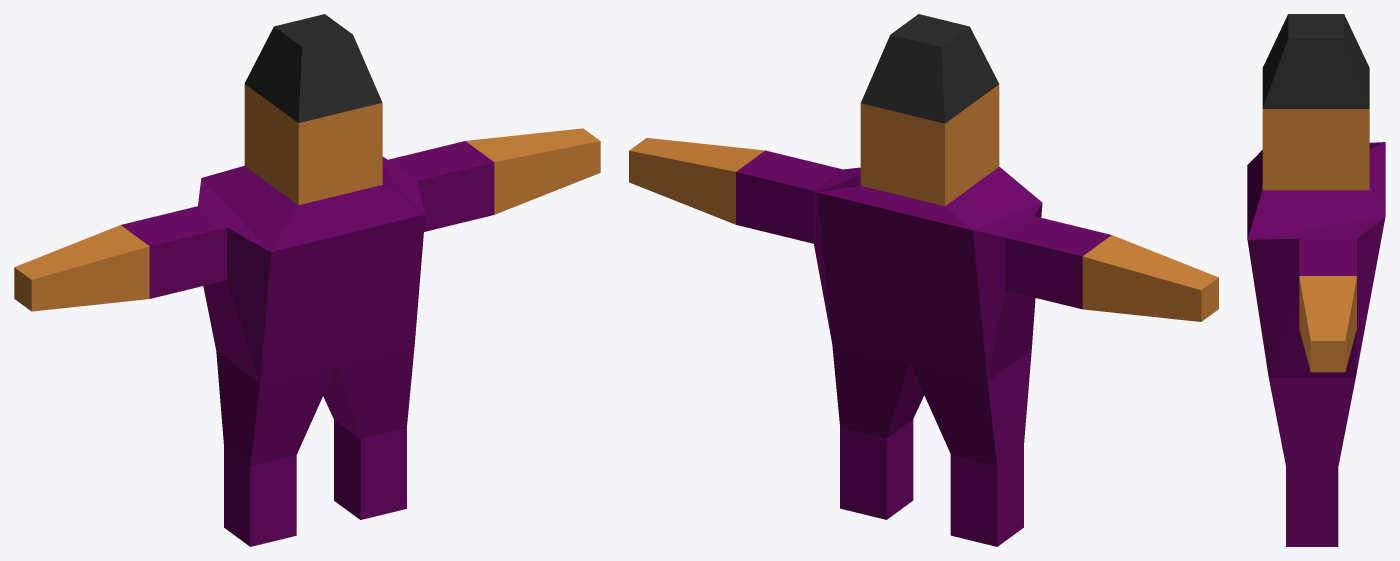
The model's file is balas.fbx.
The picture shows the model from 3 angles, left to right: view 1: azimuth 30°, elevation 25°; view 2: azimuth 150°, elevation 25°; view 3: azimuth 270°, elevation 25°; orthographic projection.
Visible parts, largest first — view 1: Cube; view 2: Cube; view 3: Cube.
Part boxes in pixels (bbox=[...]): Cube: bbox=[14, 14, 600, 546]; Cube: bbox=[629, 14, 1218, 546]; Cube: bbox=[1247, 14, 1385, 546].
Size of the model in its own units: 736 by 601 by 156.
